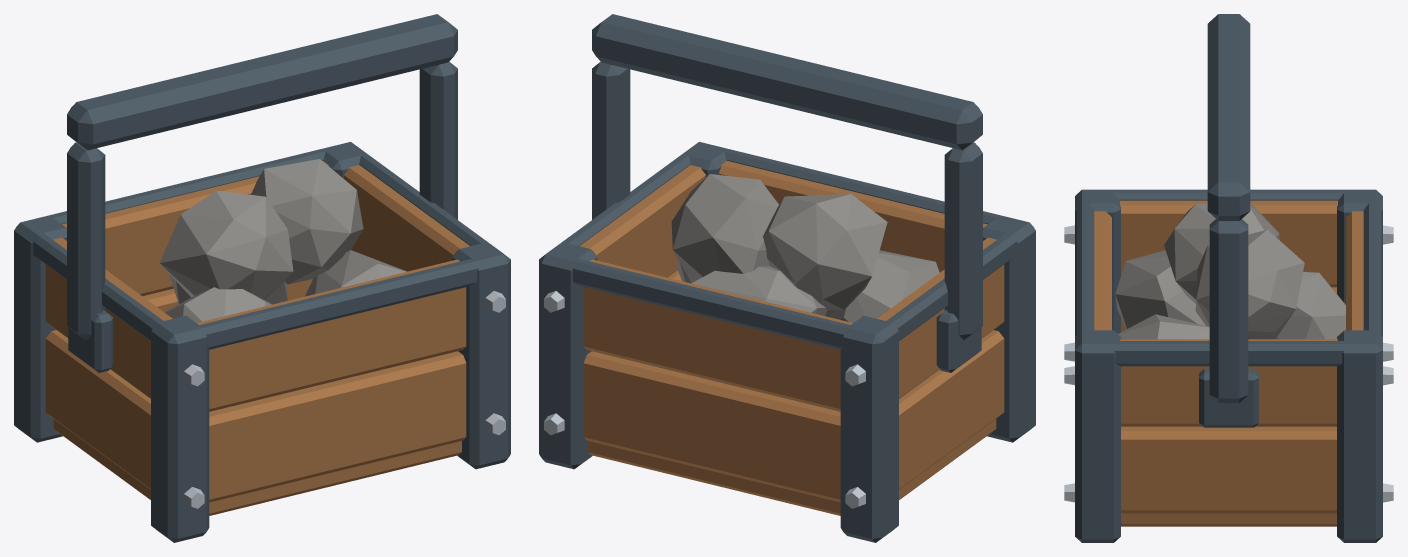
Rendered from Basket_Filled.fbx.
3 renders of one model, left to right at view 1: azimuth 30°, elevation 25°; view 2: azimuth 150°, elevation 25°; view 3: azimuth 270°, elevation 25°, orthographic. The views are drawn at different scales.
Parts seen in each view (by area): view 1: Frame, Wood, Rocks, SteelLight; view 2: Frame, Wood, Rocks, SteelLight; view 3: Frame, Wood, Rocks, SteelLight.
Boxes of the visible parts, box(x1,y1,x2,y2) form: Frame: box(14, 14, 510, 542); Wood: box(45, 161, 469, 515); Rocks: box(159, 159, 406, 322); SteelLight: box(184, 291, 505, 508); Frame: box(539, 14, 1035, 542); Wood: box(580, 161, 1004, 515); Rocks: box(671, 174, 939, 322); SteelLight: box(544, 291, 865, 508); Frame: box(1075, 14, 1382, 542); Wood: box(1094, 200, 1363, 526); Rocks: box(1115, 202, 1345, 339); SteelLight: box(1064, 225, 1393, 502).
Size of the model in its own units: 2.37 by 2.29 by 1.86.
